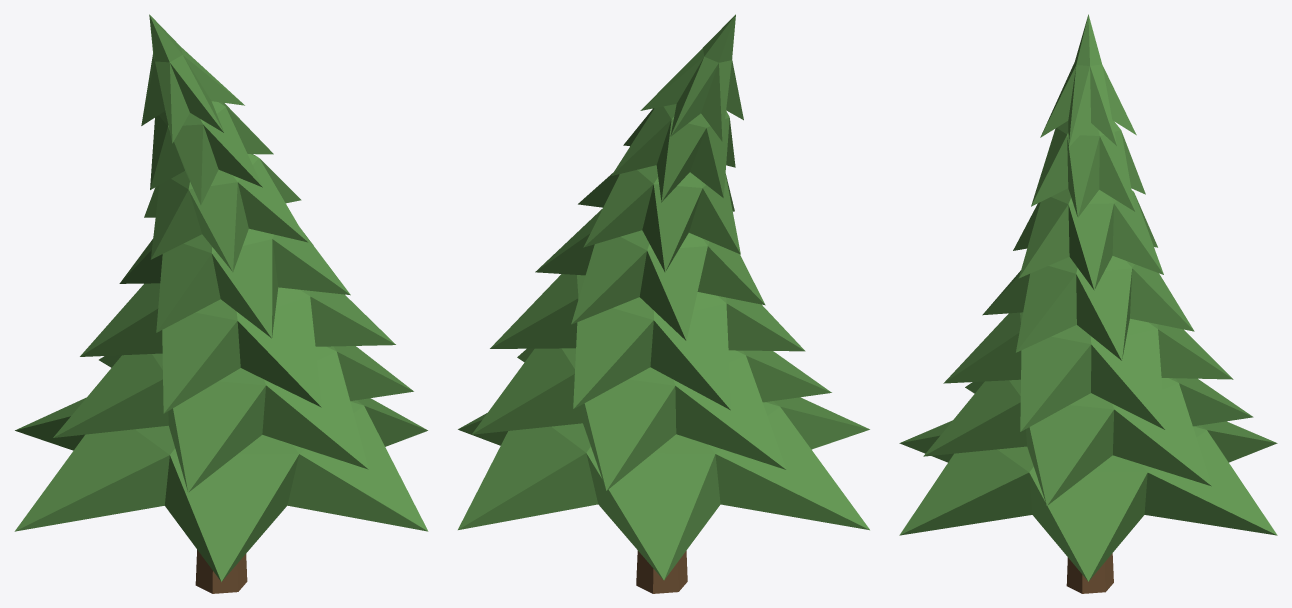
The model's file is tree3d-088.glb.
3 renders of one model, left to right at view 1: azimuth 30°, elevation 25°; view 2: azimuth 150°, elevation 25°; view 3: azimuth 270°, elevation 25°, orthographic. The views are drawn at different scales.
Visible parts, largest first — view 1: tree3d-088; view 2: tree3d-088; view 3: tree3d-088.
Part boxes in pixels (x1=…): tree3d-088: x1=14, y1=14, x2=428, y2=593; tree3d-088: x1=458, y1=14, x2=869, y2=593; tree3d-088: x1=899, y1=14, x2=1277, y2=593.
Size of the model in its own units: 0.7368 by 1 by 0.6381.
